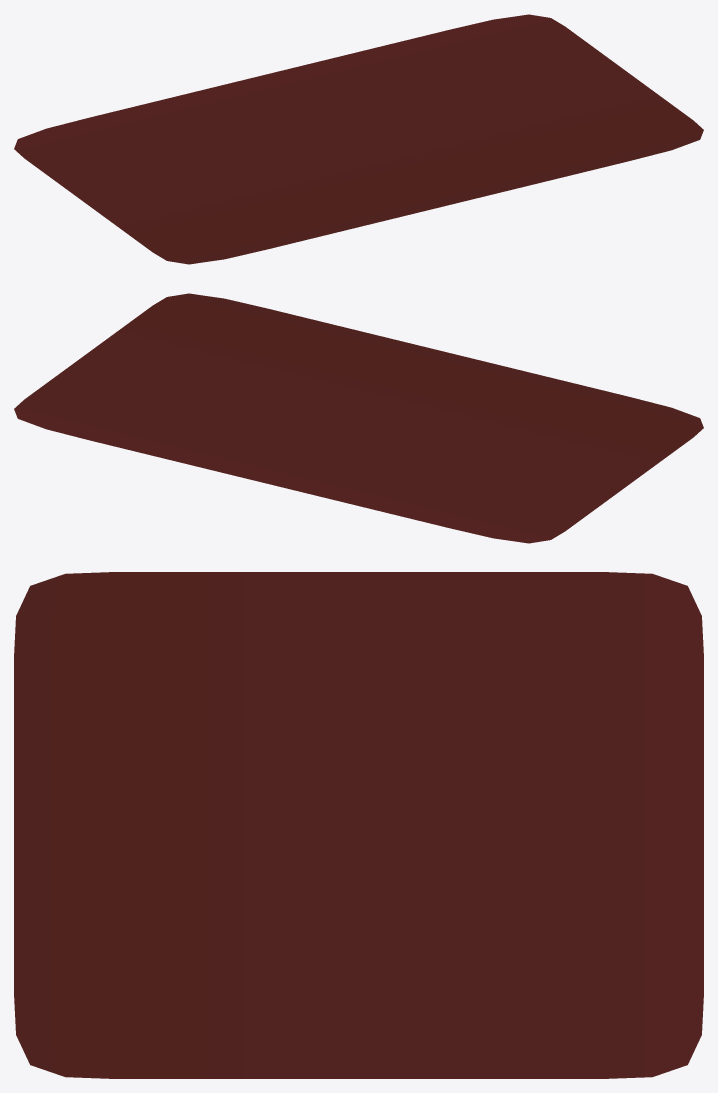
File: carpet.glb
The picture shows the model from 3 angles, top to bottom: view 1: azimuth 30°, elevation 25°; view 2: azimuth 150°, elevation 25°; view 3: azimuth 270°, elevation 25°; orthographic projection. The views are drawn at different scales.
Parts seen in each view (by area): view 1: carpet; view 2: carpet; view 3: carpet.
Boxes of the visible parts, box(x1,y1,x2,y2) form: carpet: box(14, 14, 703, 264); carpet: box(14, 293, 703, 543); carpet: box(14, 572, 703, 1078).
Bounding box in the file's own units: 3.48 × 0 × 2.
Materials: 1 (1 with a texture image).
